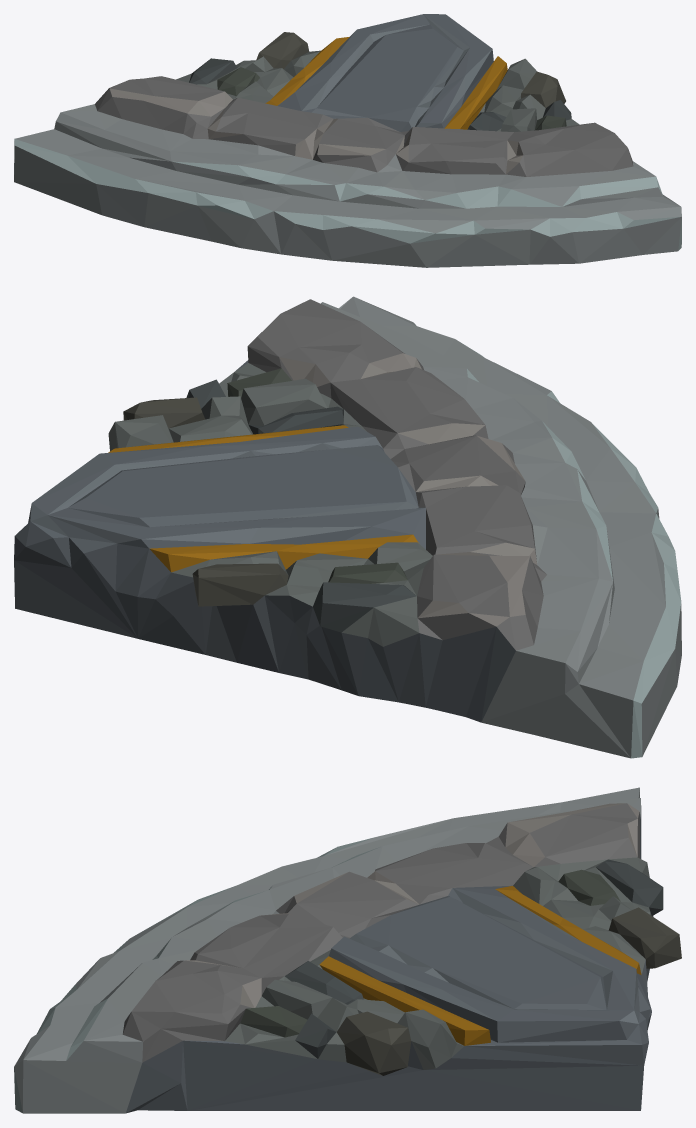
The model's file is MCastle_CYardTiles_Corner.FBX.
The picture shows the model from 3 angles, top to bottom: view 1: azimuth 30°, elevation 25°; view 2: azimuth 150°, elevation 25°; view 3: azimuth 270°, elevation 25°; orthographic projection. The views are drawn at different scales.
Parts seen in each view (by area): view 1: MCastle_CourtYard_Corner_Remeshed_LOD0; view 2: MCastle_CourtYard_Corner_Remeshed_LOD0; view 3: MCastle_CourtYard_Corner_Remeshed_LOD0.
Part boxes in pixels (left/top/right/bottom): MCastle_CourtYard_Corner_Remeshed_LOD0: left=14, top=14, right=681, bottom=267; MCastle_CourtYard_Corner_Remeshed_LOD0: left=14, top=296, right=681, bottom=758; MCastle_CourtYard_Corner_Remeshed_LOD0: left=14, top=787, right=681, bottom=1113.
Size of what is drawn, in the model's own units: 4.42 by 0.6948 by 4.32.
